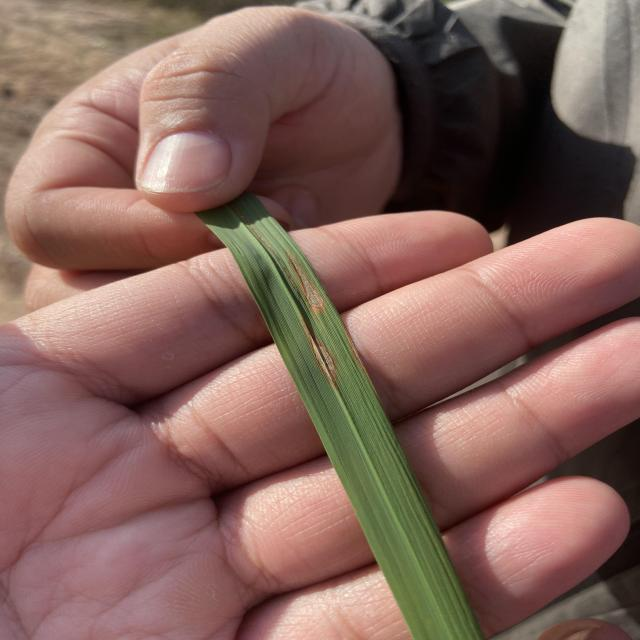Dao on: (290, 259, 325, 312), (309, 335, 337, 382), (346, 328, 364, 366)
